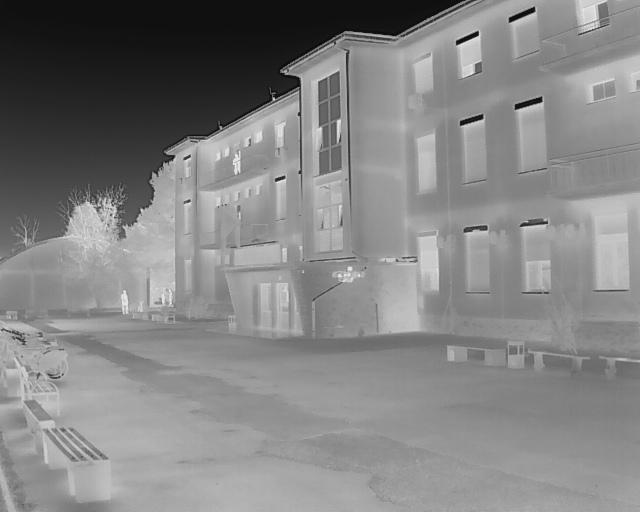drone: (327, 260, 372, 289)
